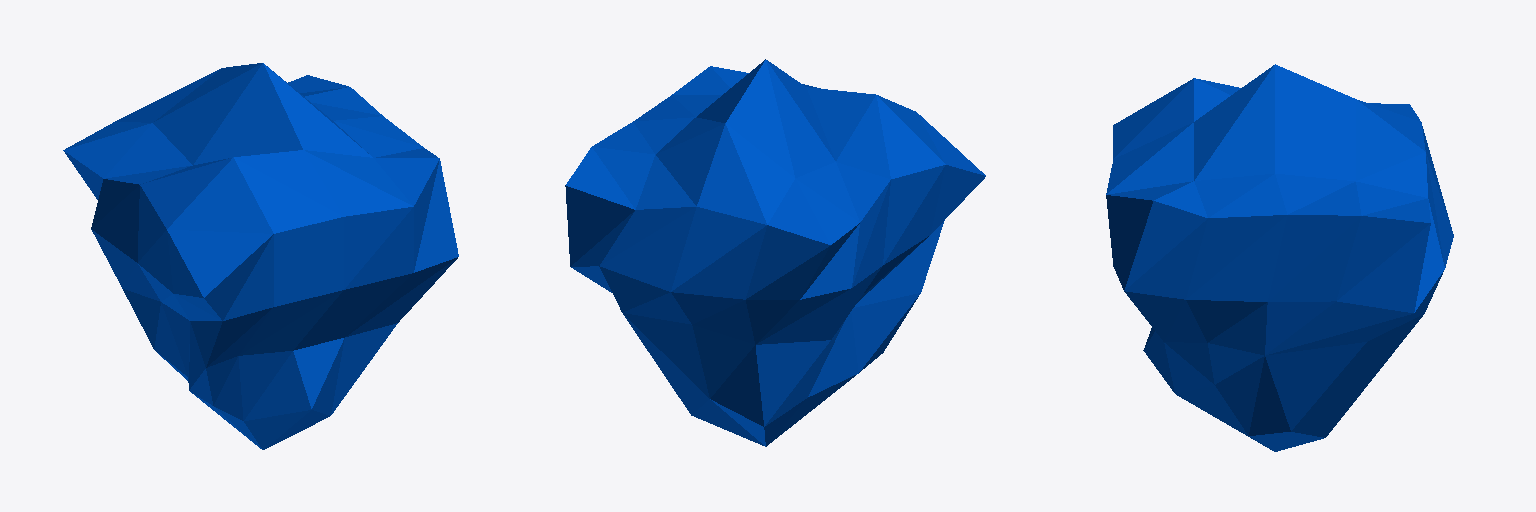
The model's file is Ice.obj.
3 renders of one model, left to right at view 1: azimuth 30°, elevation 25°; view 2: azimuth 150°, elevation 25°; view 3: azimuth 270°, elevation 25°, orthographic.
Visible parts, largest first — view 1: Cube_Cube.001; view 2: Cube_Cube.001; view 3: Cube_Cube.001.
Part boxes in pixels (x1,y1,x2,y2): Cube_Cube.001: (63,63,458,449); Cube_Cube.001: (565,59,985,446); Cube_Cube.001: (1106,64,1453,451).
Size of the model in its own units: 9.67 by 13.24 by 10.76.